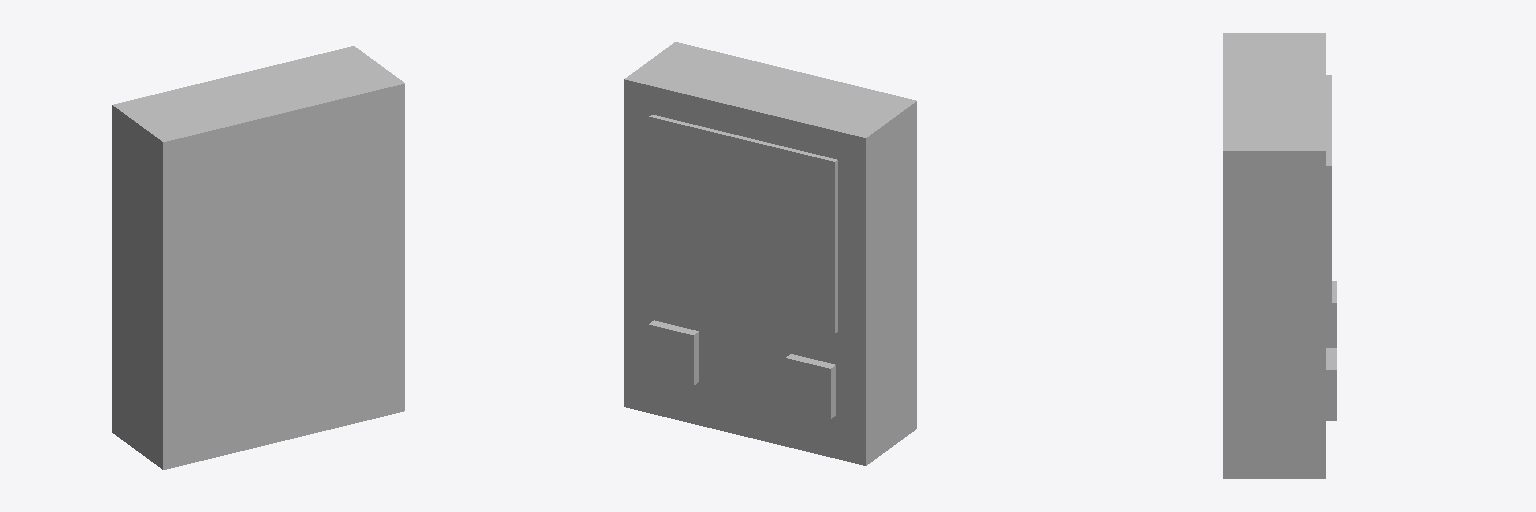
File: game_boy.obj
3 renders of one model, left to right at view 1: azimuth 30°, elevation 25°; view 2: azimuth 150°, elevation 25°; view 3: azimuth 270°, elevation 25°, orthographic.
Parts seen in each view (by area): view 1: Cube; view 2: Cube, Cube.001, Cube.002; view 3: Cube, Cube.001, Cube.002.
Part boxes in pixels (left/top/right/bottom): Cube: left=112, top=46, right=404, bottom=469; Cube: left=624, top=42, right=916, bottom=465; Cube.001: left=649, top=115, right=837, bottom=333; Cube.002: left=648, top=320, right=835, bottom=418; Cube: left=1223, top=33, right=1325, bottom=478; Cube.001: left=1326, top=75, right=1331, bottom=336; Cube.002: left=1326, top=281, right=1336, bottom=420.
Size of the model in its own units: 2.36 by 3.05 by 0.9588.